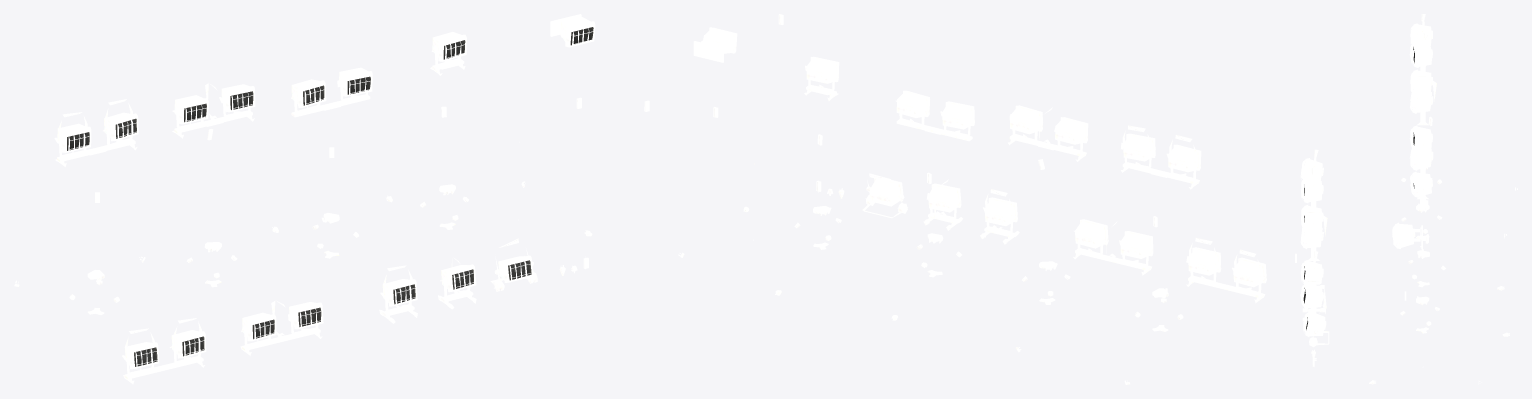
The model's file is cc0_flood_lights.glb.
The picture shows the model from 3 angles, left to right: view 1: azimuth 30°, elevation 25°; view 2: azimuth 150°, elevation 25°; view 3: azimuth 270°, elevation 25°; orthographic projection. The views are drawn at different scales.
Visible parts, largest first — view 1: flood_lights_wall_light, flood_lights_standing_double_c_light_02, flood_lights_standing_single_light, flood_lights_standing_double_b_light_01, flood_lights_floor_double_b_light_01, flood_lights_standing_double_b_light_02, flood_lights_standing_double_c_light_01, flood_lights_standing_double_a_light_01, flood_lights_floor_double_b_light_02, flood_lights_floor_single_light_c, flood_lights_standing_double_a_light_02, flood_lights_floor_double_a_light_02 (+3 smaller); view 2: flood_lights_floor_single_b_light, flood_lights_standing_double_c_light_01, flood_lights_floor_double_b_light_02, flood_lights_floor_double_b_light_01, flood_lights_standing_double_b_light_02, flood_lights_floor_double_a_light_01, flood_lights_floor_single_light_c, flood_lights_floor_single_a_light, flood_lights_standing_double_b_light_01, flood_lights_standing_single_light, flood_lights_standing_double_c_light_02, flood_lights_floor_double_a_light_02 (+4 smaller); view 3: flood_lights_standing_double_c_light_02, flood_lights_floor_single_light_c, flood_lights_floor_single_b_light, flood_lights_standing_double_b_light_02, flood_lights_standing_single_light, flood_lights_wall_light, flood_lights_floor_double_b_light_02, flood_lights_standing_double_a_light_02, flood_lights_floor_double_a_light_02, flood_lights_floor_single_a_light, flood_lights_standing_double_c_light_01, flood_lights_floor_double_b_light_01 (+5 smaller).
Part boxes in pixels (x1=…): flood_lights_wall_light: x1=559, y1=17, x2=595, y2=47; flood_lights_standing_double_c_light_02: x1=337, y1=67, x2=372, y2=96; flood_lights_standing_single_light: x1=431, y1=32, x2=466, y2=61; flood_lights_standing_double_b_light_01: x1=172, y1=95, x2=208, y2=124; flood_lights_floor_double_b_light_01: x1=241, y1=312, x2=276, y2=341; flood_lights_standing_double_b_light_02: x1=219, y1=84, x2=255, y2=112; flood_lights_standing_double_c_light_01: x1=291, y1=79, x2=326, y2=107; flood_lights_standing_double_a_light_01: x1=57, y1=123, x2=91, y2=152; flood_lights_floor_double_b_light_02: x1=288, y1=302, x2=323, y2=329; flood_lights_floor_single_light_c: x1=498, y1=255, x2=533, y2=282; flood_lights_standing_double_a_light_02: x1=104, y1=112, x2=138, y2=141; flood_lights_floor_double_a_light_02: x1=171, y1=330, x2=206, y2=358; flood_lights_floor_single_b_light: x1=926, y1=183, x2=961, y2=212; flood_lights_standing_double_c_light_01: x1=940, y1=101, x2=974, y2=129; flood_lights_floor_double_b_light_02: x1=1074, y1=219, x2=1108, y2=248; flood_lights_floor_double_b_light_01: x1=1119, y1=231, x2=1153, y2=258; flood_lights_standing_double_b_light_02: x1=1009, y1=105, x2=1042, y2=134; flood_lights_floor_double_a_light_01: x1=1233, y1=257, x2=1266, y2=287; flood_lights_floor_single_light_c: x1=869, y1=178, x2=903, y2=206; flood_lights_floor_single_a_light: x1=984, y1=197, x2=1017, y2=226; flood_lights_standing_double_b_light_01: x1=1054, y1=117, x2=1088, y2=144; flood_lights_standing_single_light: x1=805, y1=56, x2=839, y2=83; flood_lights_standing_double_c_light_02: x1=895, y1=90, x2=929, y2=117; flood_lights_floor_double_a_light_02: x1=1188, y1=247, x2=1221, y2=275; flood_lights_standing_double_c_light_02: x1=1409, y1=144, x2=1433, y2=170; flood_lights_floor_single_light_c: x1=1303, y1=311, x2=1326, y2=336; flood_lights_floor_single_b_light: x1=1300, y1=283, x2=1323, y2=309; flood_lights_standing_double_b_light_02: x1=1410, y1=87, x2=1433, y2=113; flood_lights_standing_single_light: x1=1410, y1=171, x2=1432, y2=197; flood_lights_wall_light: x1=1392, y1=222, x2=1415, y2=248; flood_lights_floor_double_b_light_02: x1=1300, y1=223, x2=1323, y2=249; flood_lights_standing_double_a_light_02: x1=1409, y1=41, x2=1432, y2=67; flood_lights_floor_double_a_light_02: x1=1300, y1=177, x2=1323, y2=203; flood_lights_floor_single_a_light: x1=1300, y1=260, x2=1323, y2=284; flood_lights_standing_double_c_light_01: x1=1409, y1=125, x2=1432, y2=147; flood_lights_floor_double_b_light_01: x1=1301, y1=205, x2=1323, y2=228.
Bounding box in the file's own units: 4.48 × 1.78 × 2.04.
Materials: 2 (2 with a texture image).
